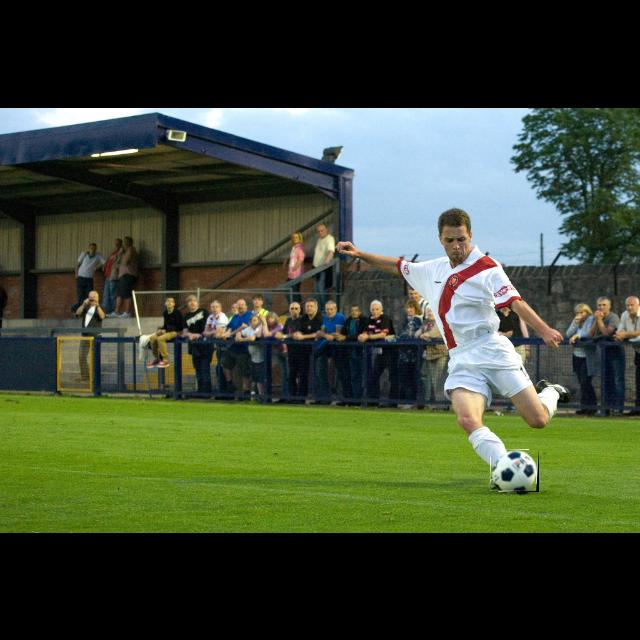Football: (491, 450, 539, 492)
